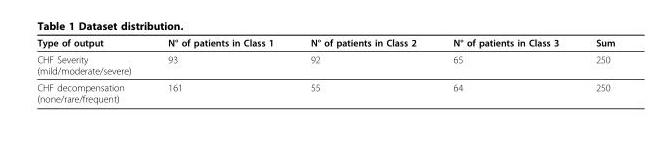table: (36, 36, 614, 103)
table column: (291, 36, 434, 103), (149, 36, 291, 103), (434, 36, 576, 103), (36, 36, 149, 103), (576, 36, 614, 103)
table column header: (36, 36, 614, 50)
table row: (36, 50, 614, 78), (36, 78, 614, 103), (36, 36, 614, 50)
